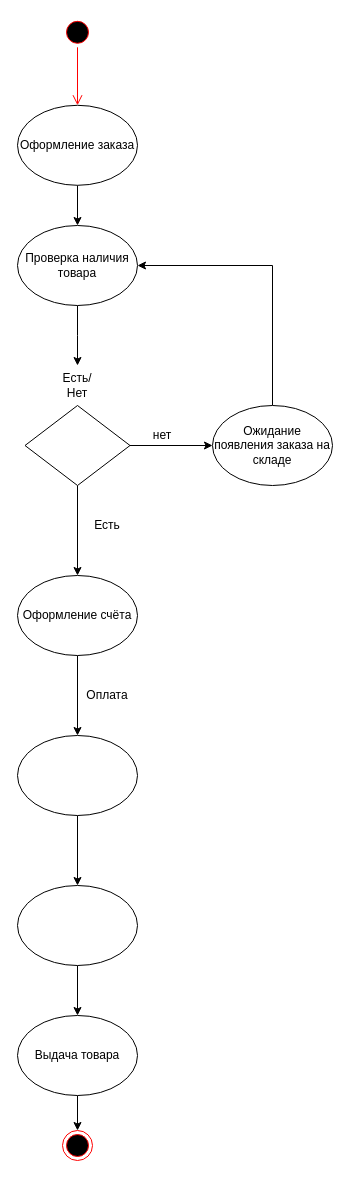
This 350x1179 diagram has some shape labels left out. The centre of each missing label's shape, as x and y in pixels:
Предоставление накладной кладовщику: (77,925)
Составление и Выдача накладной: (77,775)
